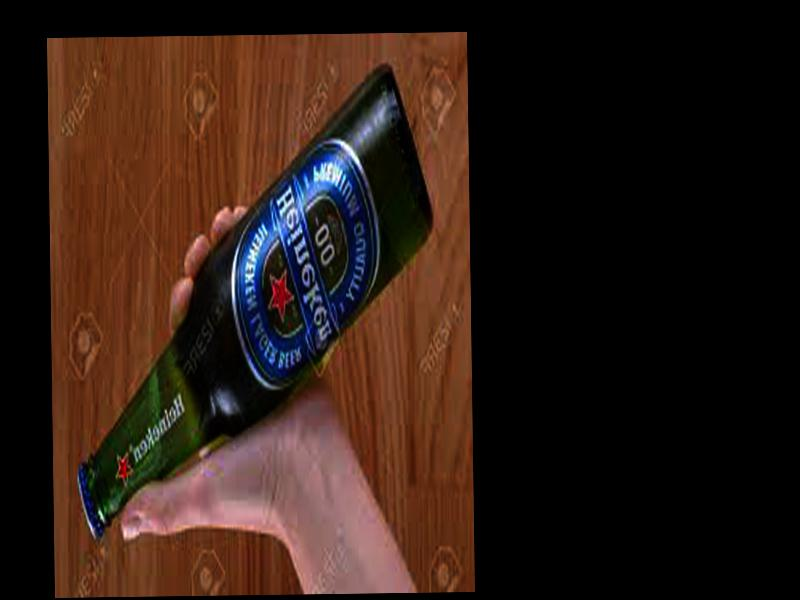Beer: (70, 66, 439, 536)
